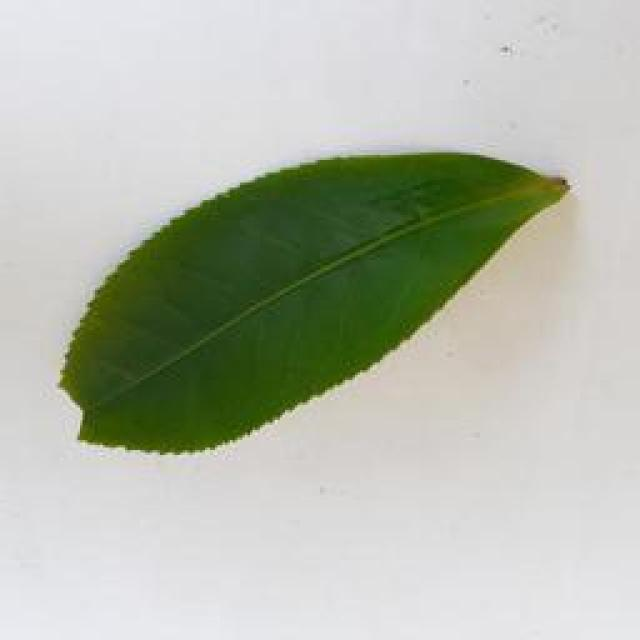Healthy: (59, 143, 566, 460)
